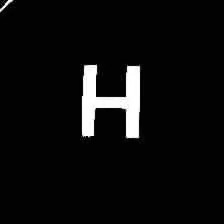LTR_H: (70, 56, 144, 143)
